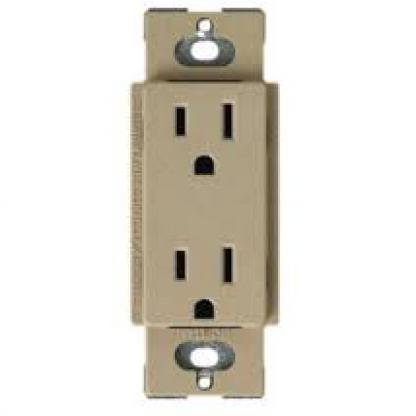OUTLET: (141, 84, 266, 328)
